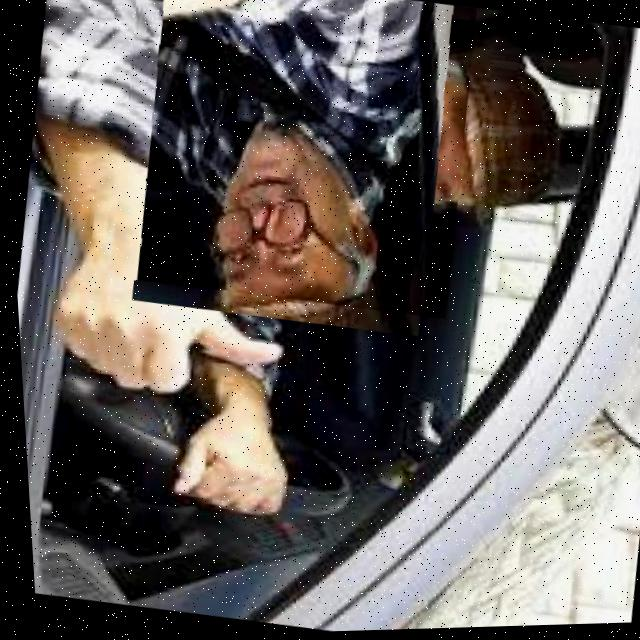seatbelt: (94, 0, 491, 329)
